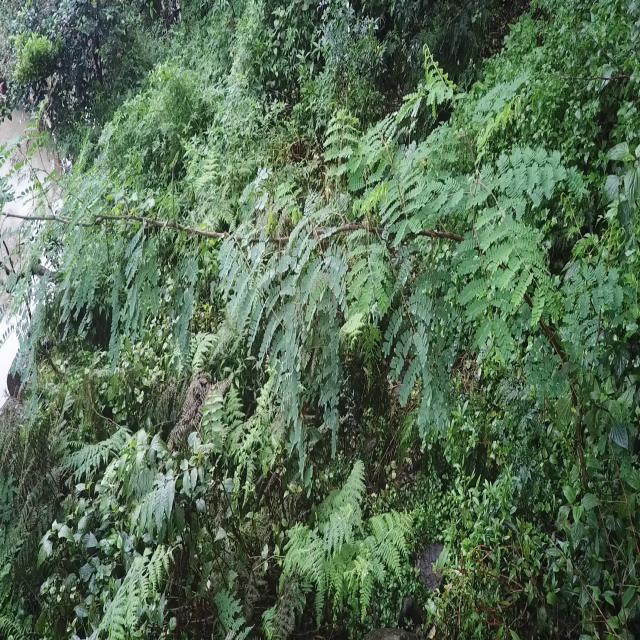Mysore-Thorn-Weed: (0, 70, 620, 468)
